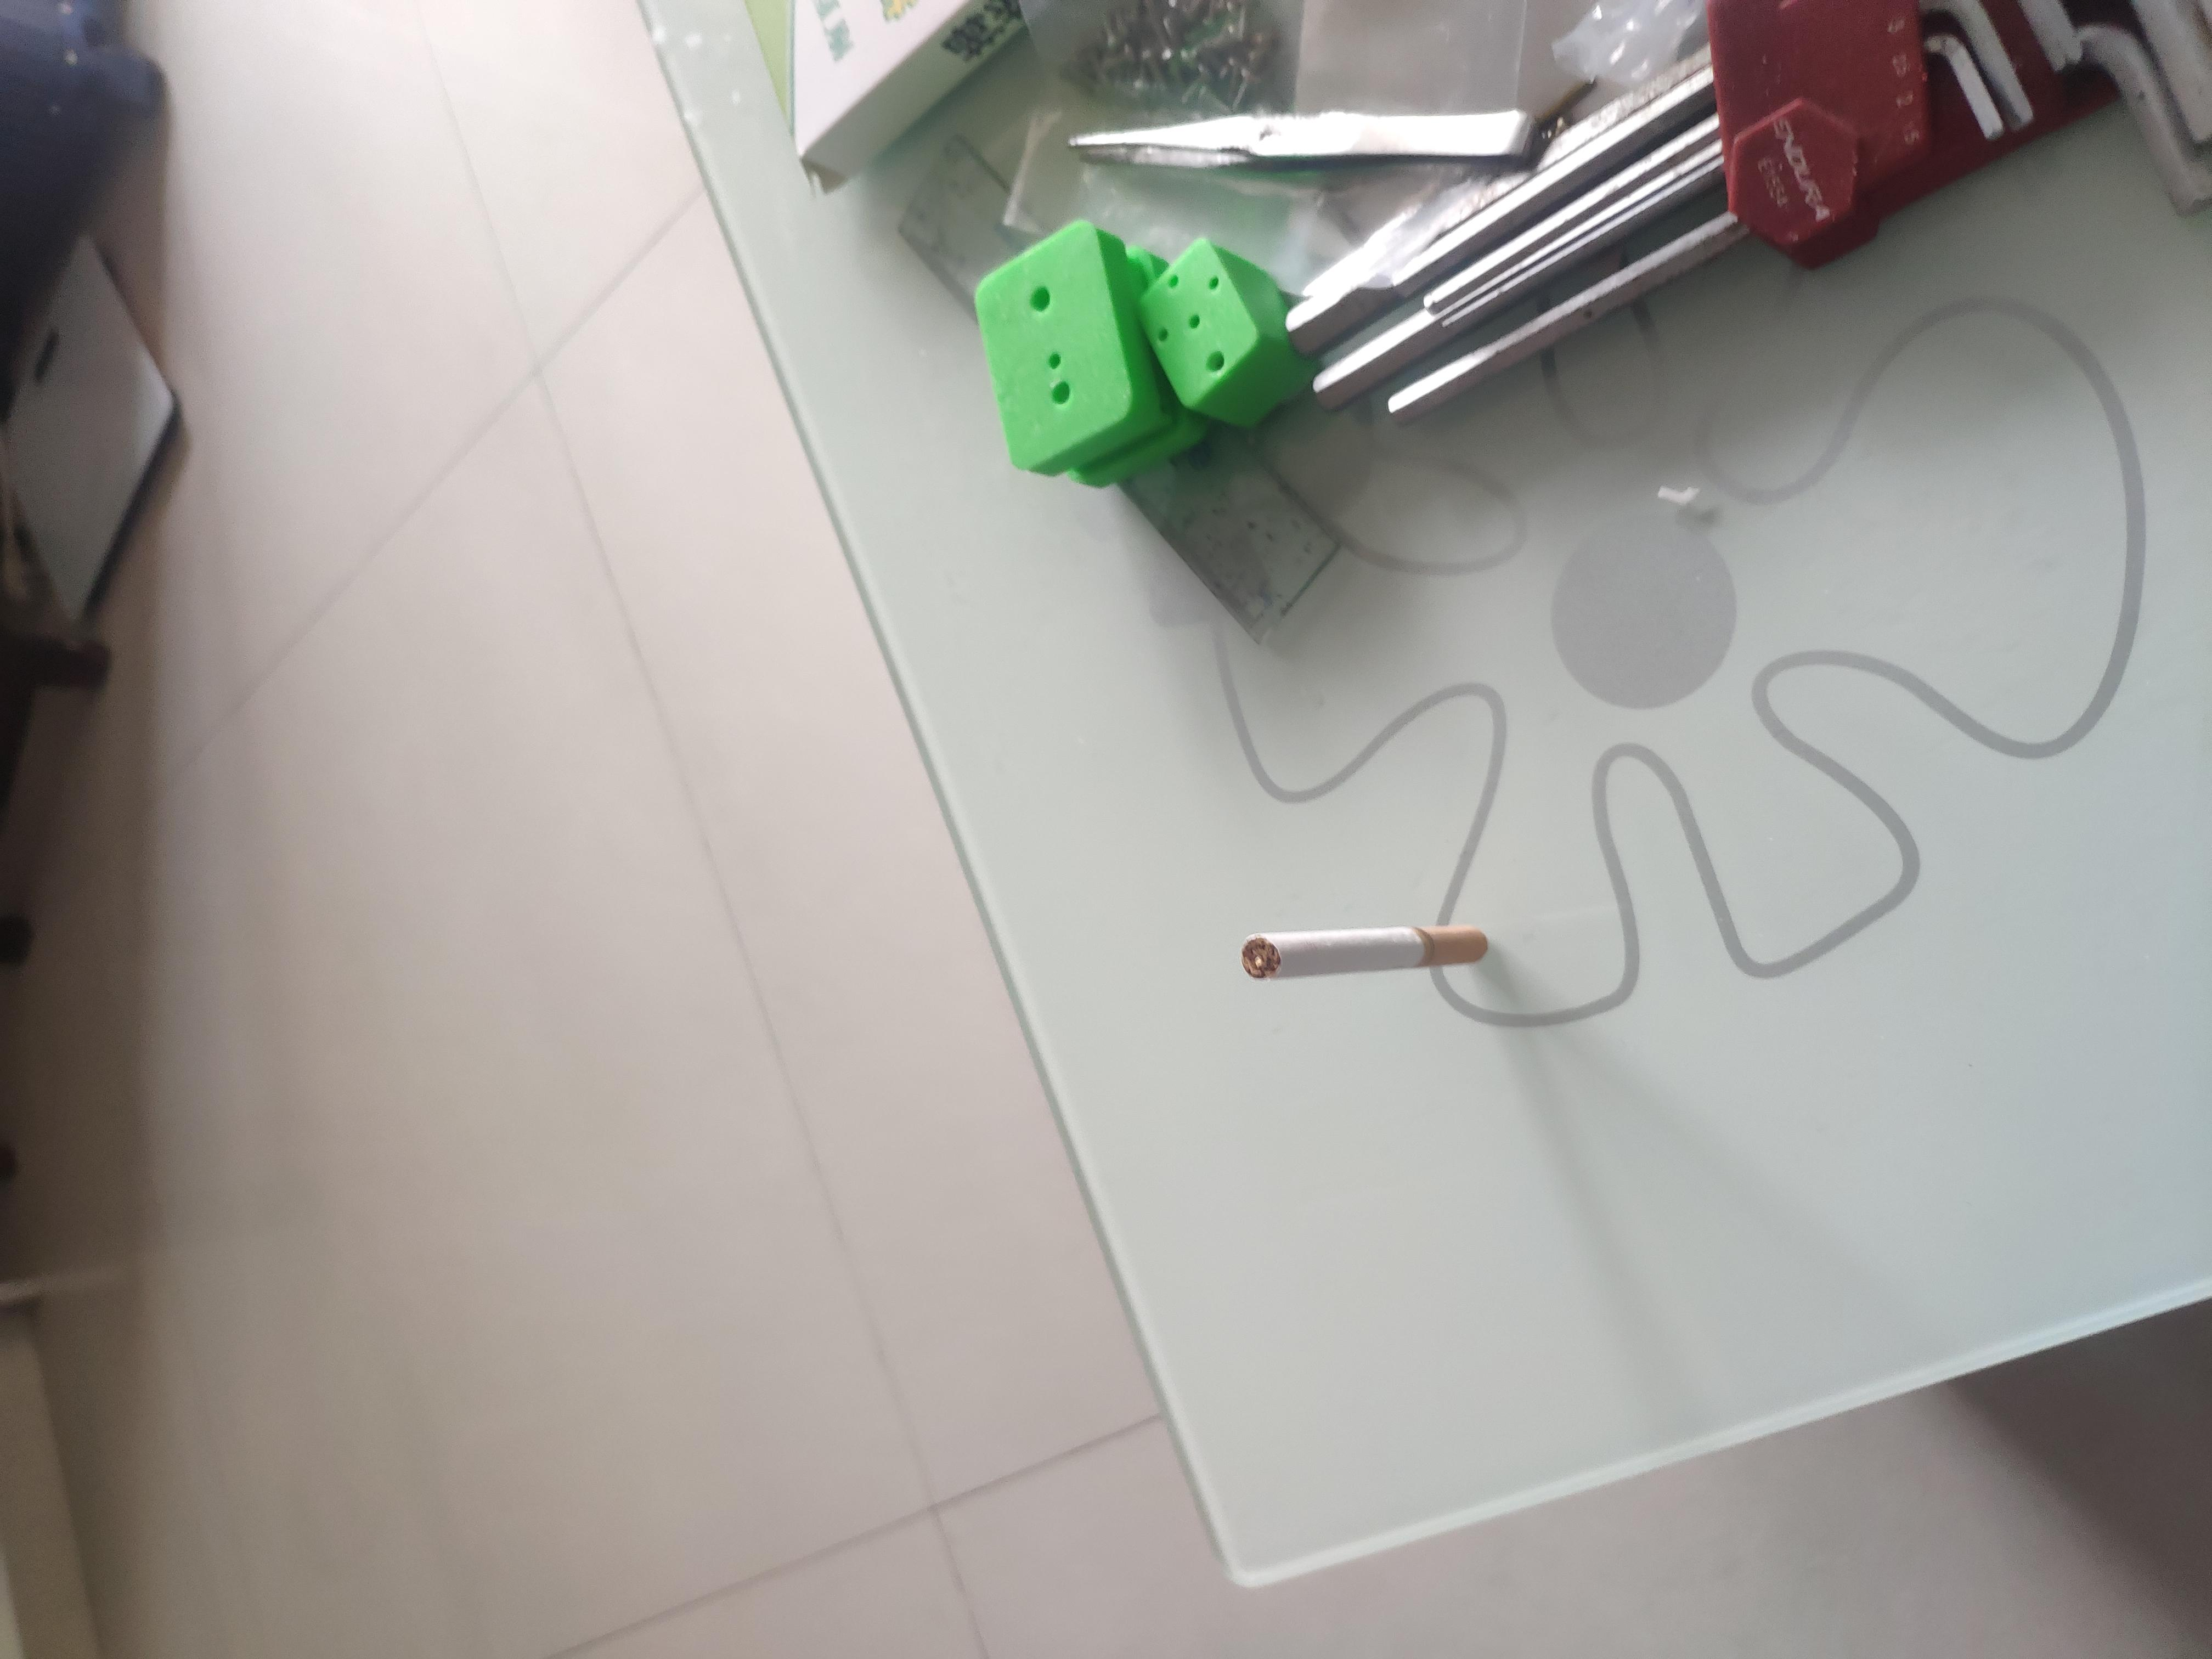smoke: (909, 931, 981, 1115)
